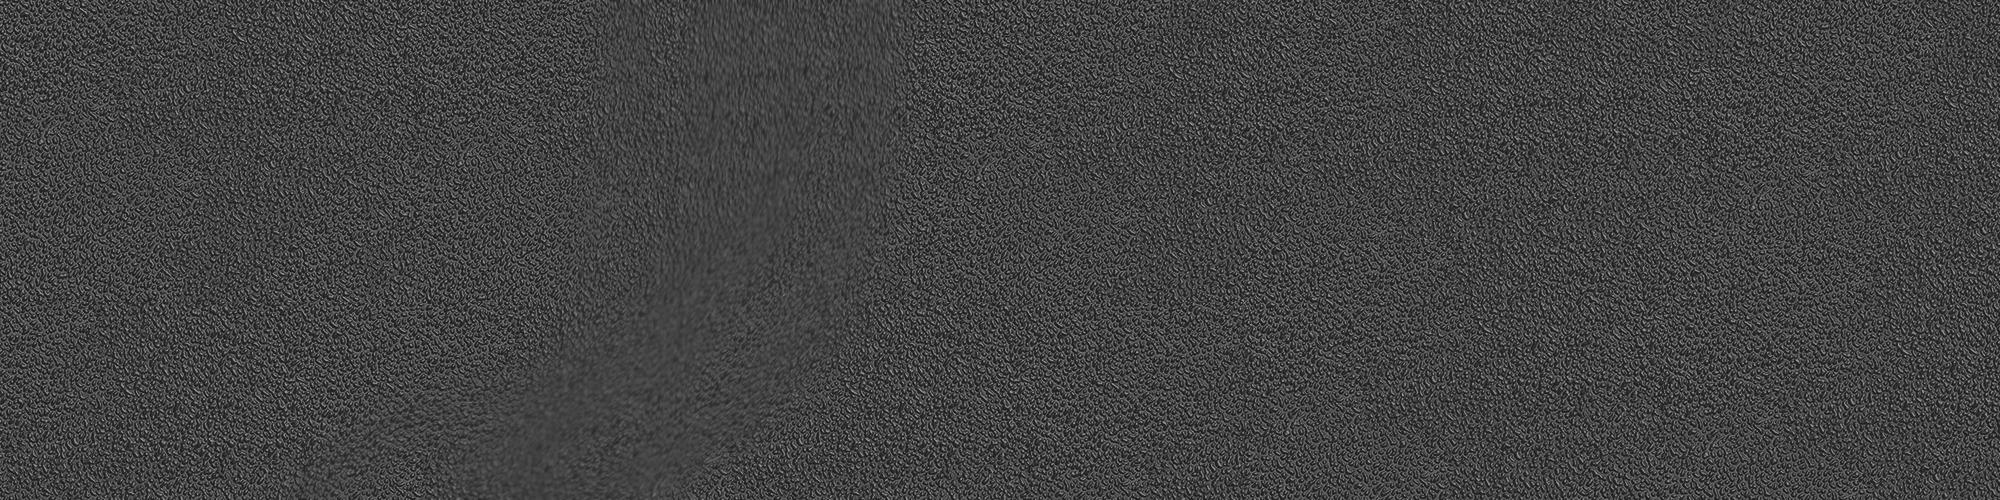Flow_Lines: (429, 23, 931, 482)
